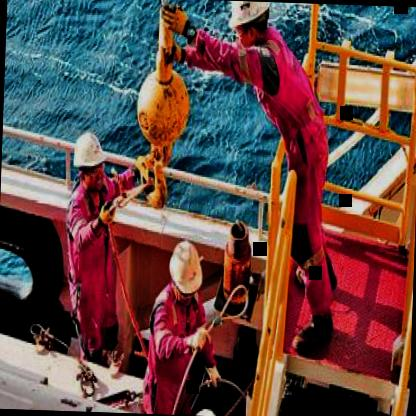helmet: (164, 236, 210, 308), (227, 1, 276, 54), (72, 126, 106, 194)
